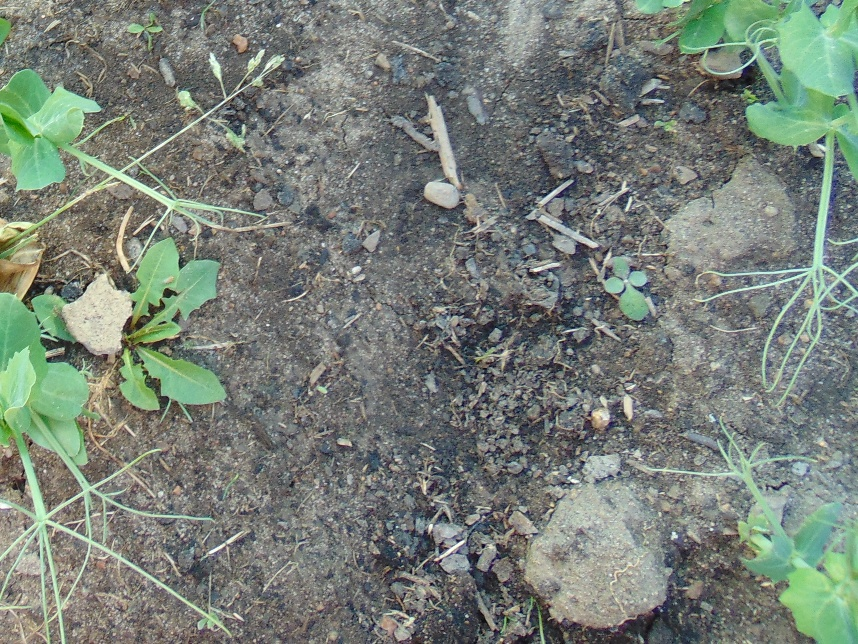crop: (645, 1, 858, 331), (712, 448, 858, 643), (1, 288, 105, 538), (15, 457, 135, 601), (1, 65, 104, 200), (89, 137, 220, 243), (688, 420, 787, 502), (787, 257, 858, 359)
weed: (114, 236, 226, 413), (601, 255, 652, 327), (124, 5, 163, 50)
